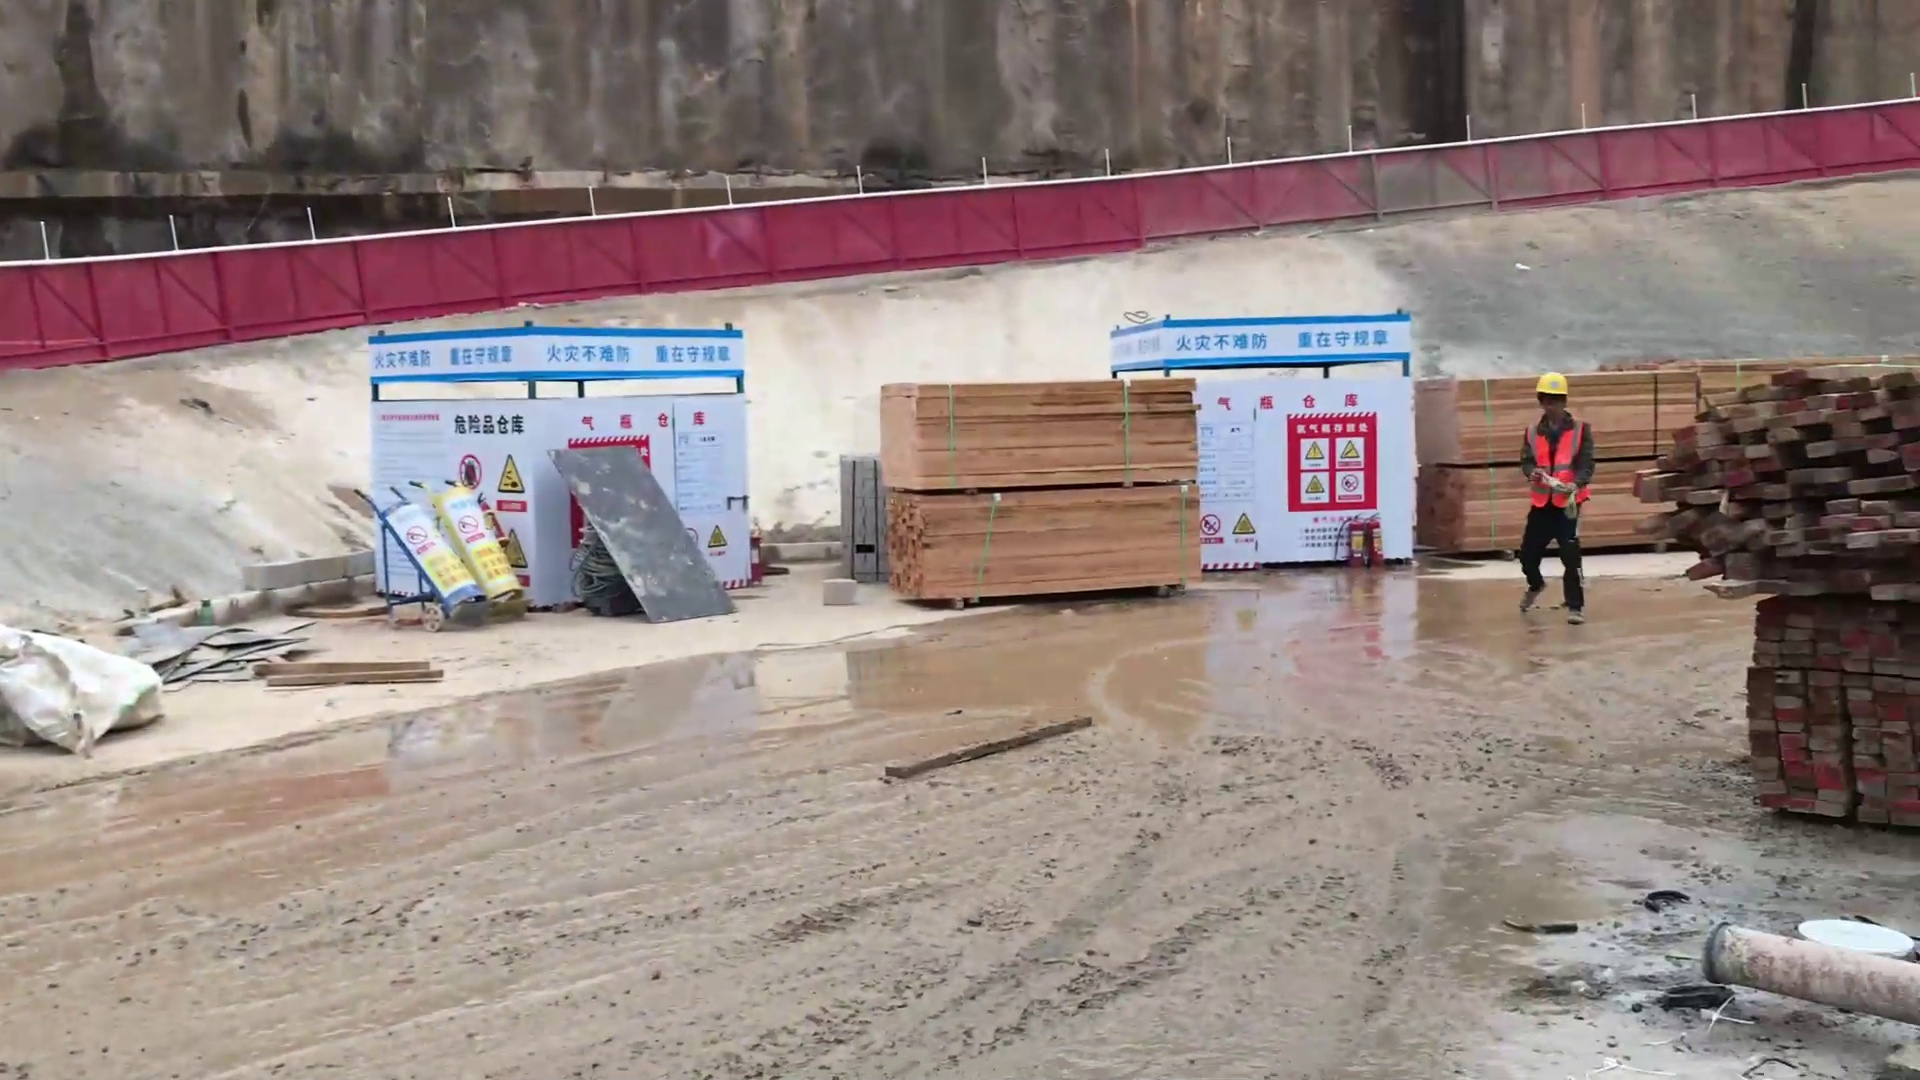fence: (1514, 85, 1920, 205)
helmet: (1537, 370, 1569, 399)
person: (1512, 369, 1598, 630)
slogan: (373, 330, 740, 375), (1273, 396, 1385, 524), (1164, 324, 1391, 360), (451, 405, 533, 501)
vest: (1524, 415, 1591, 516)
wood: (1722, 346, 1920, 852), (878, 365, 1203, 612), (1426, 363, 1719, 578)
